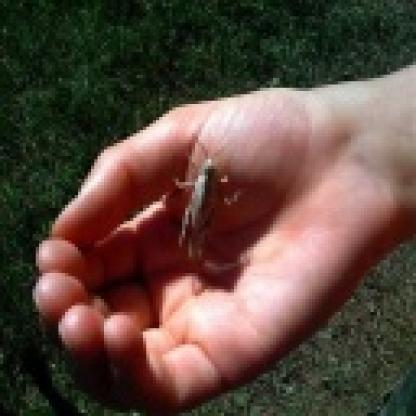grasshopper: (161, 132, 240, 267)
